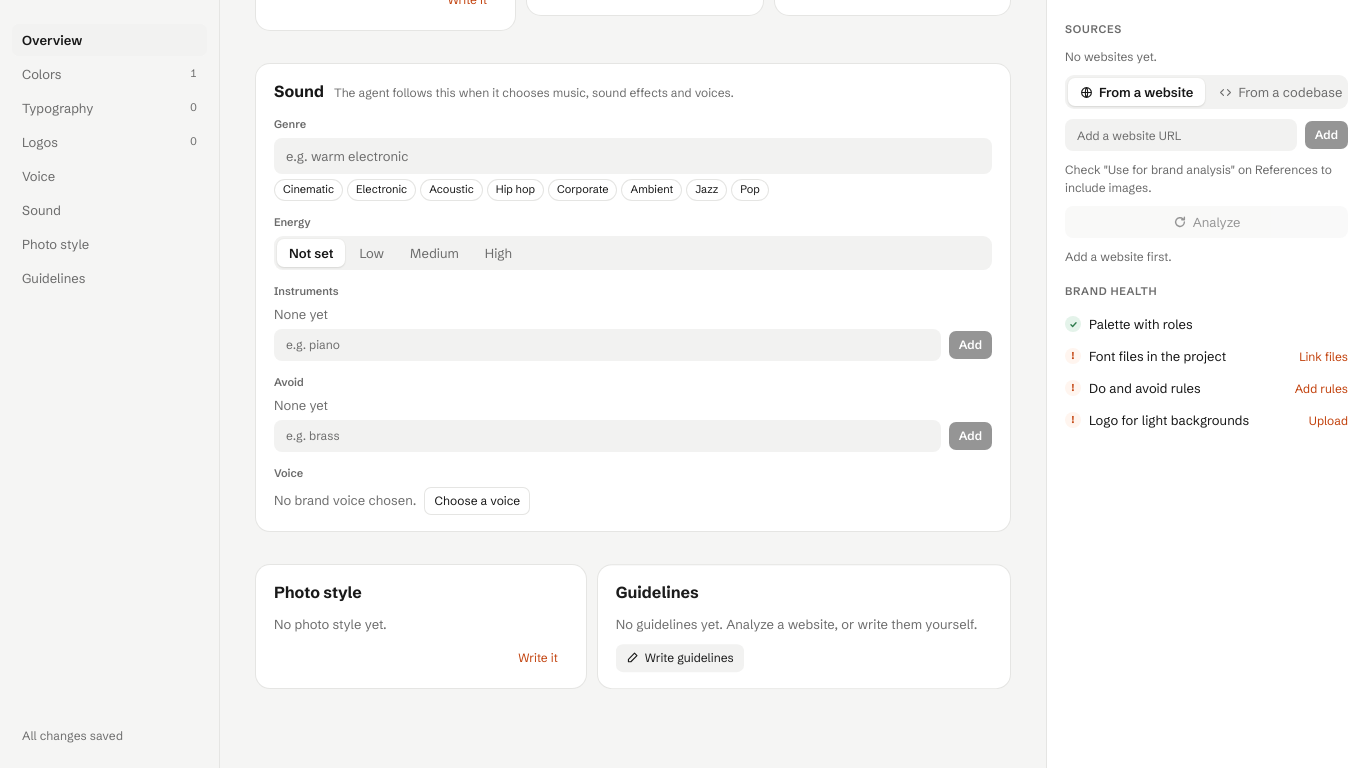
Brand · voice picker › lists the voices from the core, searches, and saves the one picked with its provider and name
The image size is (1366, 768).
(page scrolled)
Click the button "Choose a voice": (477, 501) [424,487,530,515]
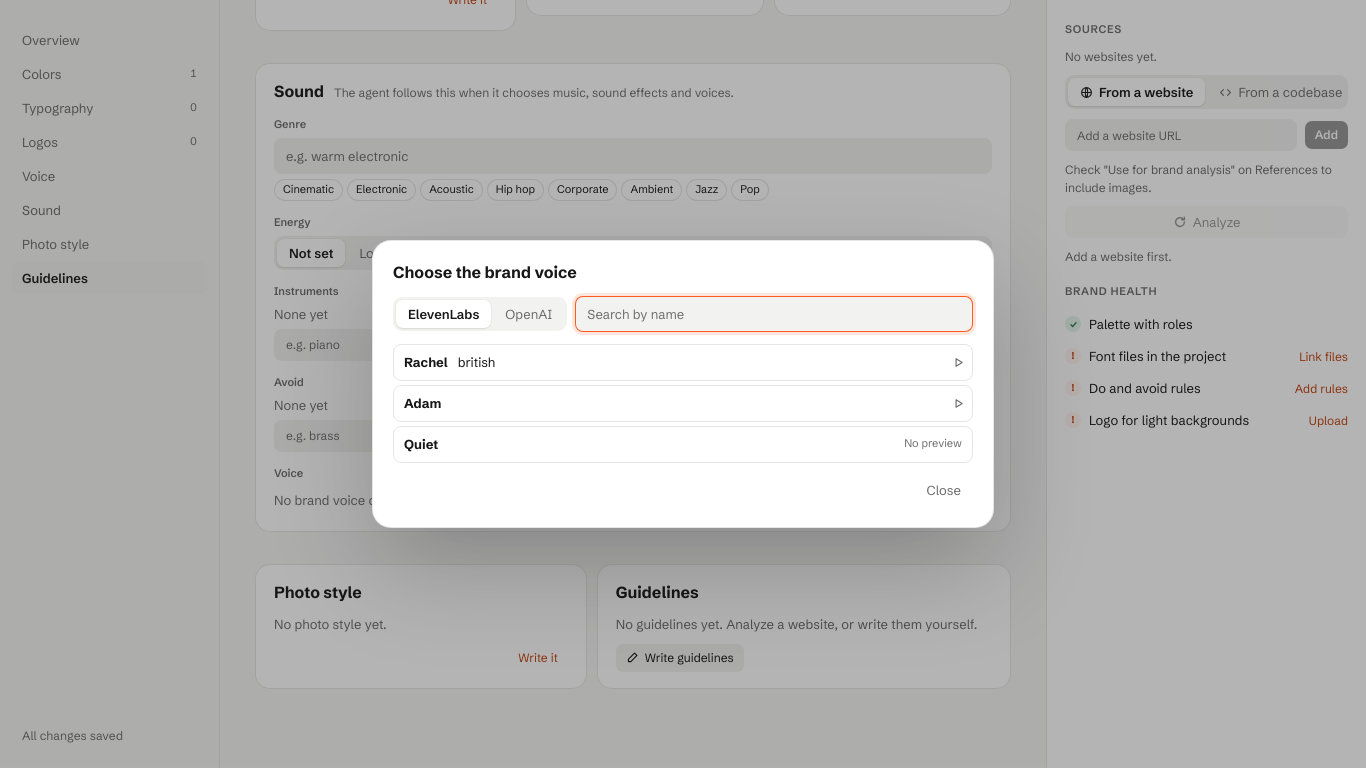
Result: the button with aria-label "Use Rachel" is shown at [394,345,938,380]
Result: the text "british" is shown at [458,353,495,372]
In the field named "Search voices": (774, 314) [575,296,973,332], type "ada"
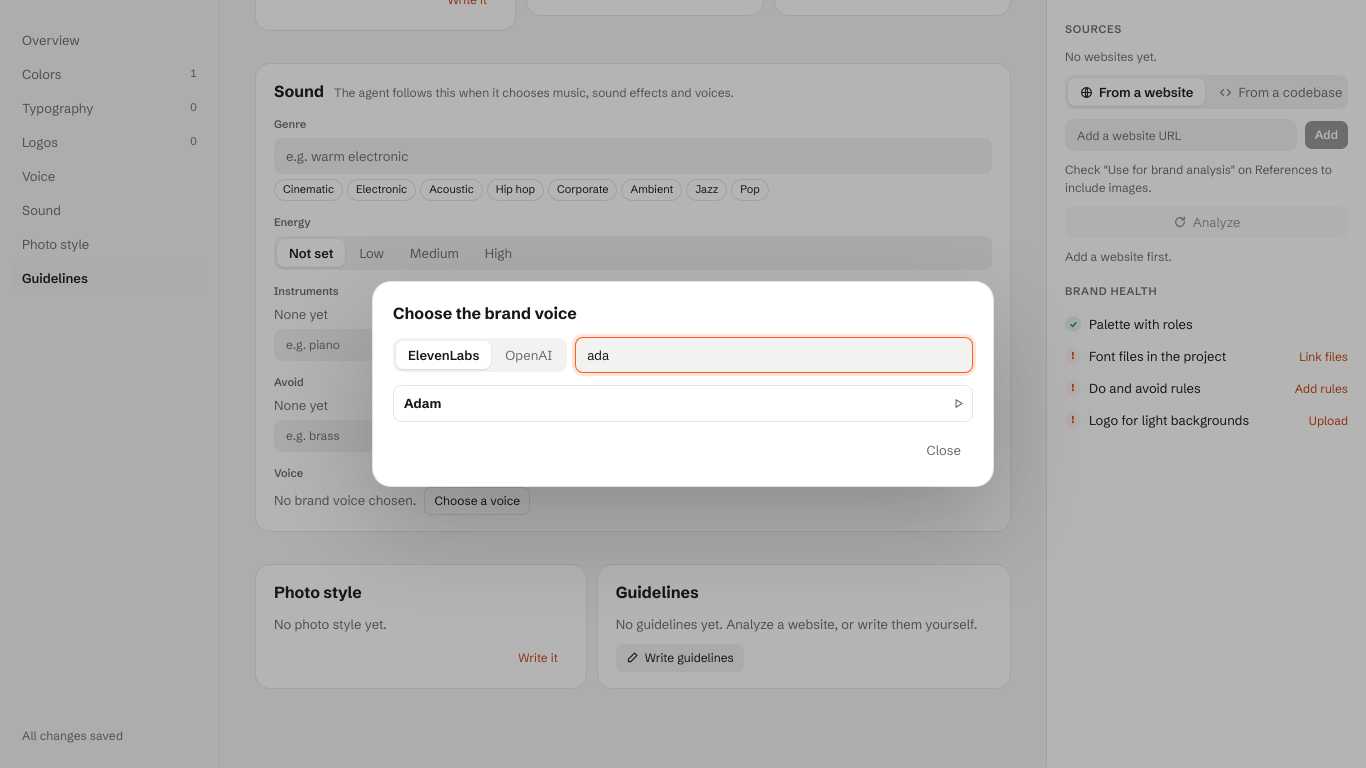
Click the button with aria-label "Use Adam": (423, 403) [394,386,938,421]
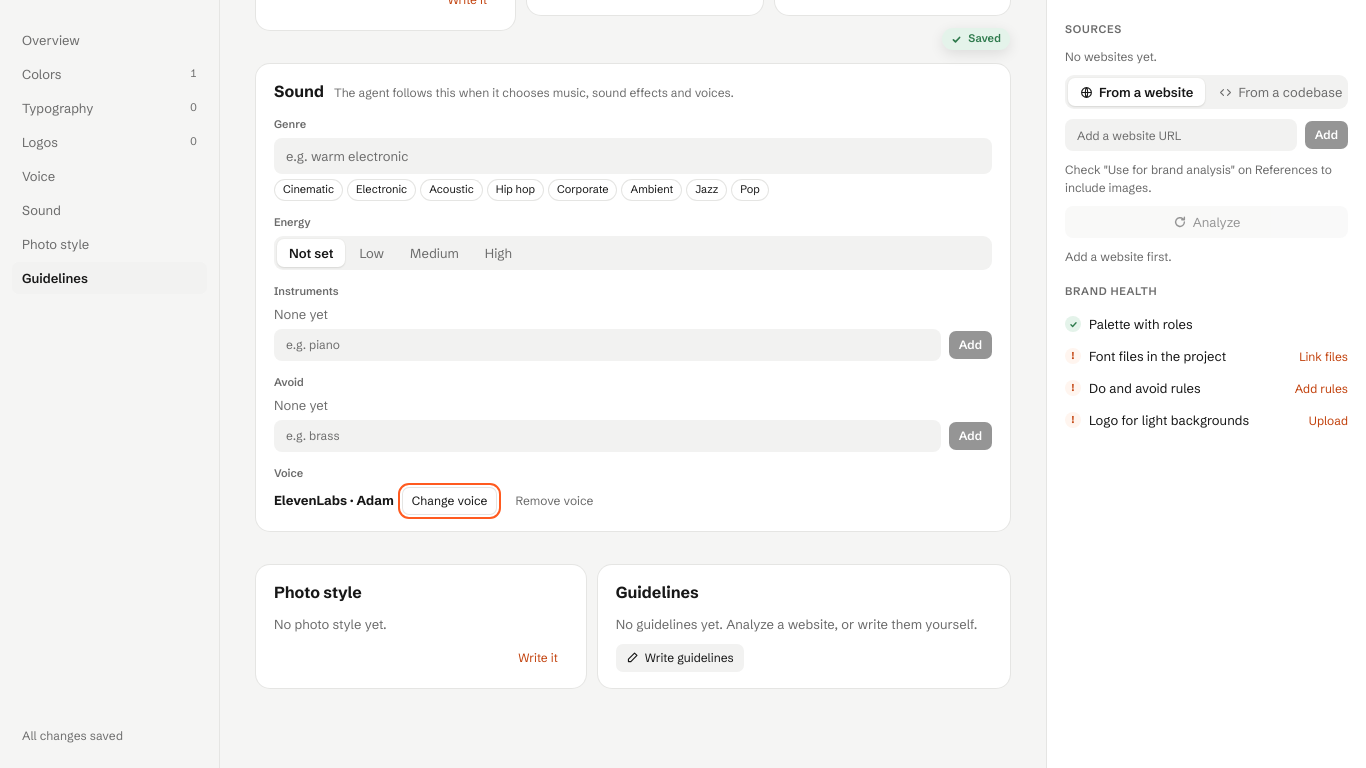
Result: the text "ElevenLabs · Adam" is shown at [274,491,394,510]
